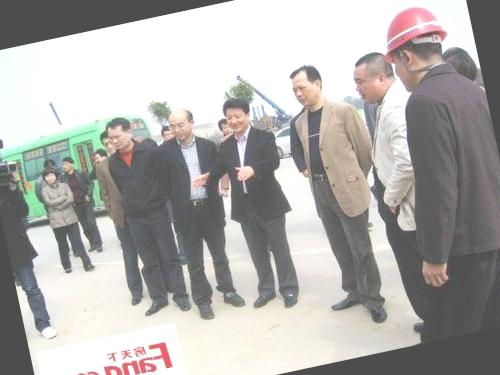no_helmet: (345, 46, 402, 110), (282, 56, 331, 113), (436, 40, 483, 94), (219, 92, 256, 138), (165, 99, 200, 145), (104, 112, 138, 156), (96, 126, 122, 158), (155, 120, 181, 151), (213, 111, 235, 142), (89, 143, 111, 171), (60, 152, 78, 172), (39, 168, 59, 186)
